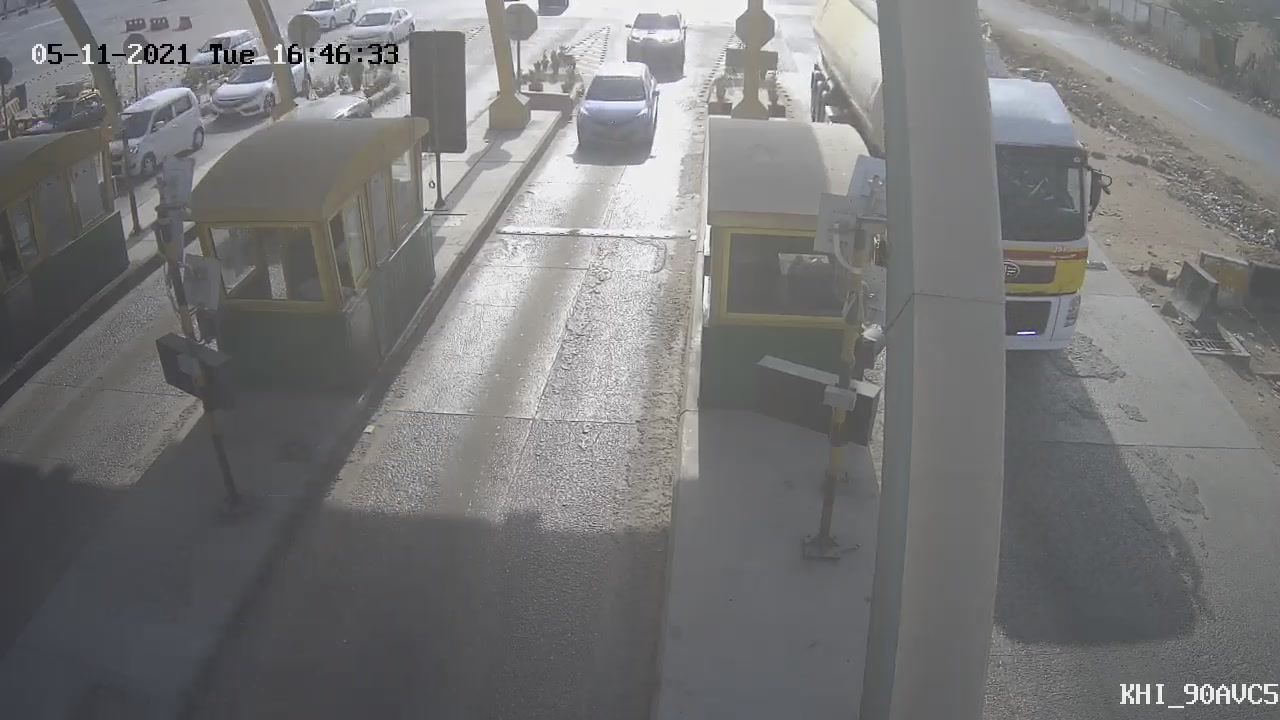F1: (561, 51, 674, 179)
